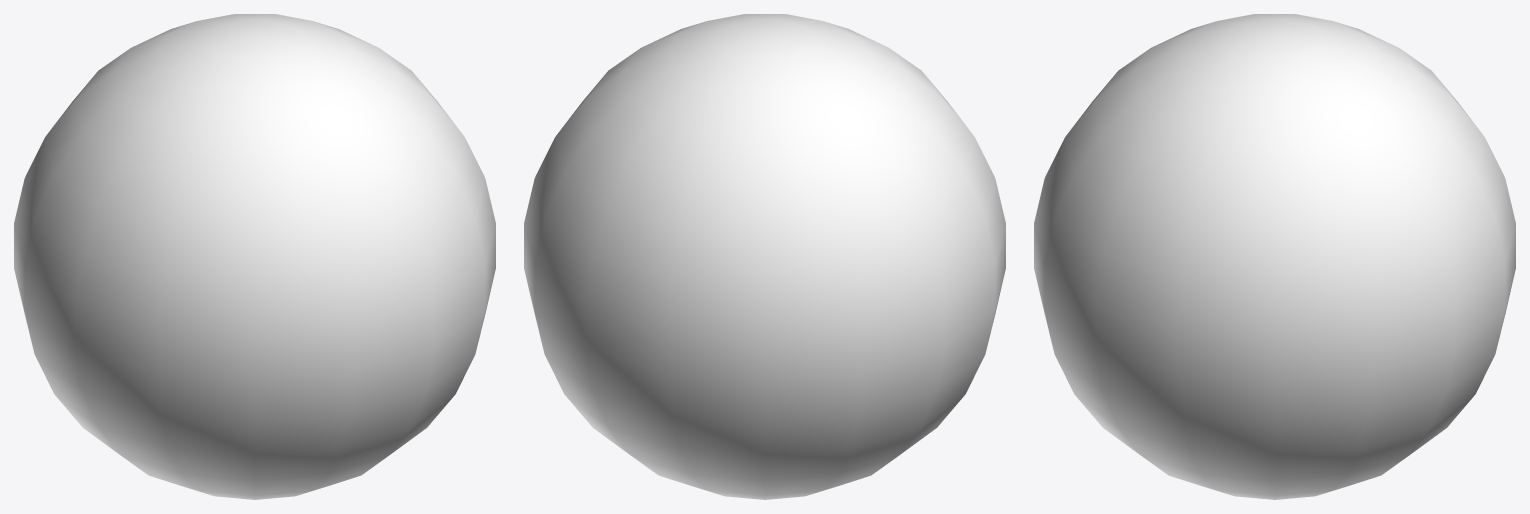
The model's file is SpikeOrb.fbx.
The picture shows the model from 3 angles, left to right: view 1: azimuth 30°, elevation 25°; view 2: azimuth 150°, elevation 25°; view 3: azimuth 270°, elevation 25°; orthographic projection.
Visible parts, largest first — view 1: pCone30; view 2: pCone30; view 3: pCone30.
Boxes of the visible parts, left/top/right/bottom form: pCone30: left=14, top=14, right=495, bottom=499; pCone30: left=524, top=14, right=1005, bottom=499; pCone30: left=1034, top=14, right=1515, bottom=499.
Bounding box in the file's own units: 3.03 × 3.08 × 3.04.
3 materials, 1 textured.
